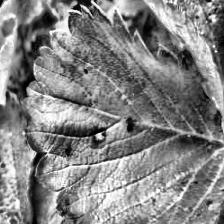Leaf Spot: (19, 0, 224, 224), (124, 0, 224, 134), (0, 87, 38, 224), (29, 175, 79, 224)
